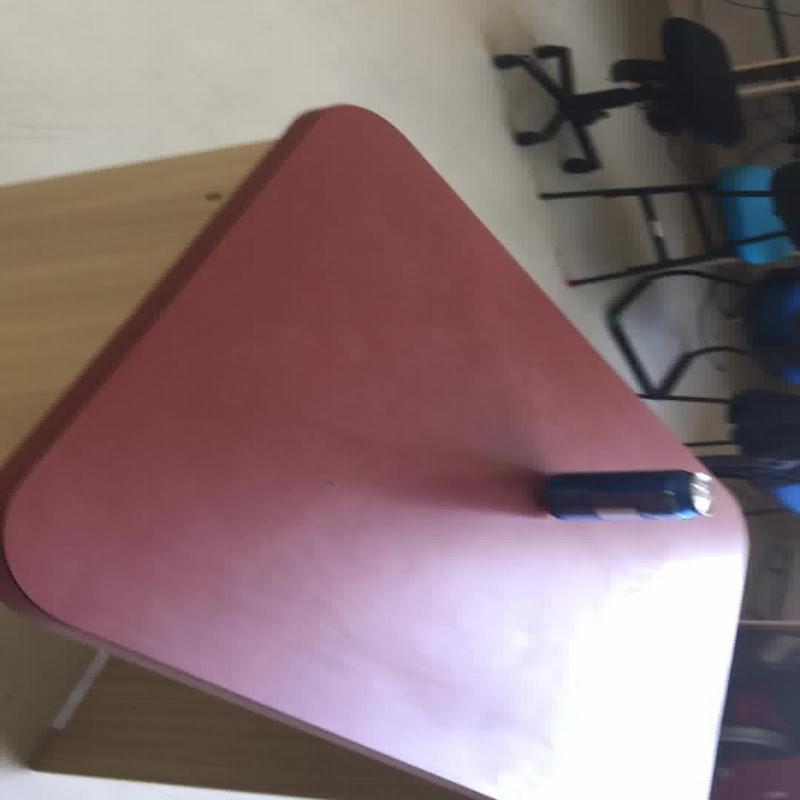tonic: (2, 102, 751, 798), (540, 468, 714, 522), (714, 164, 792, 264)
